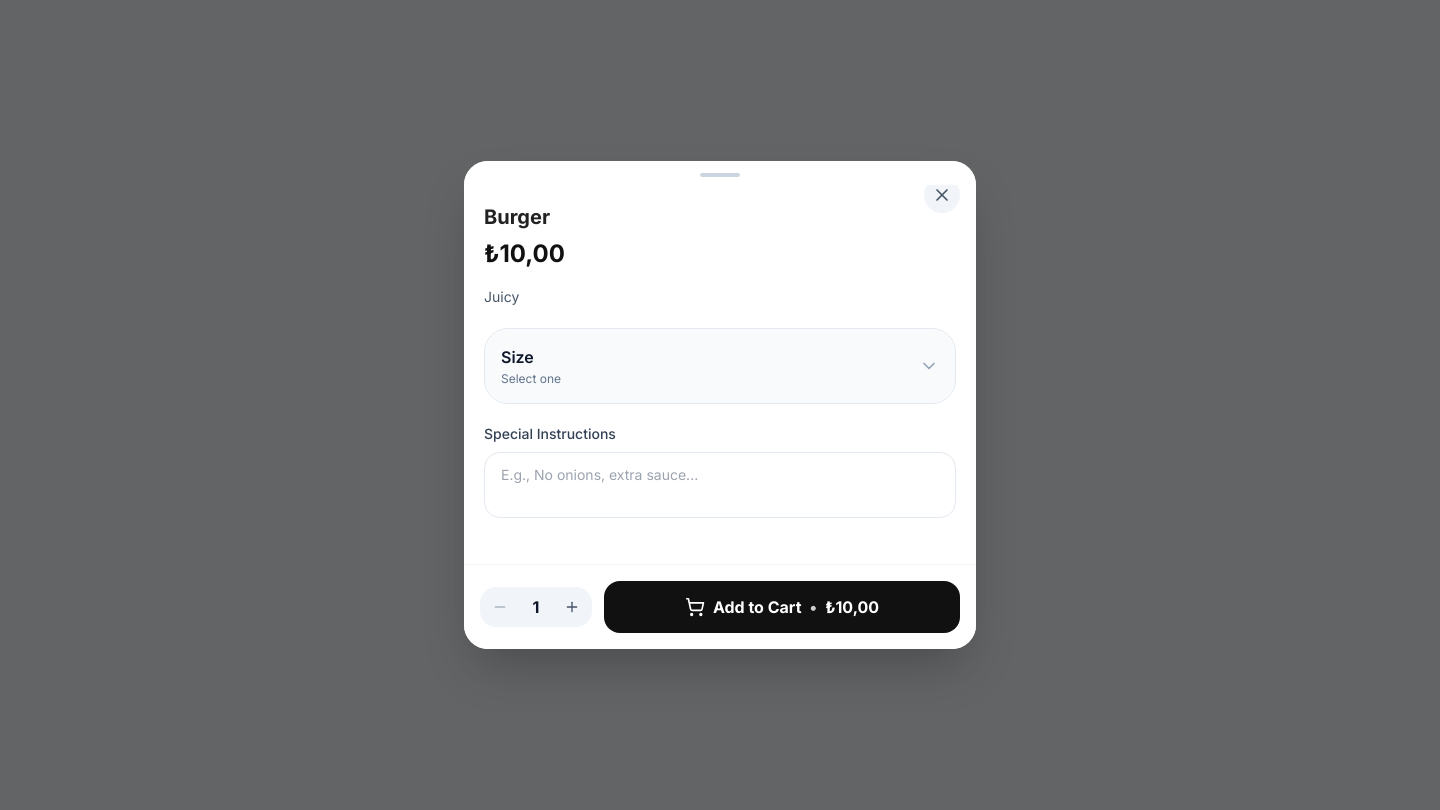
Test: ProductDetailModalWithCart — single-select modifier group › picking a second option replaces the first (only one stays selected)
Click the button "Size Select one".
click(517, 357)  # box left=485, top=329, right=955, bottom=403
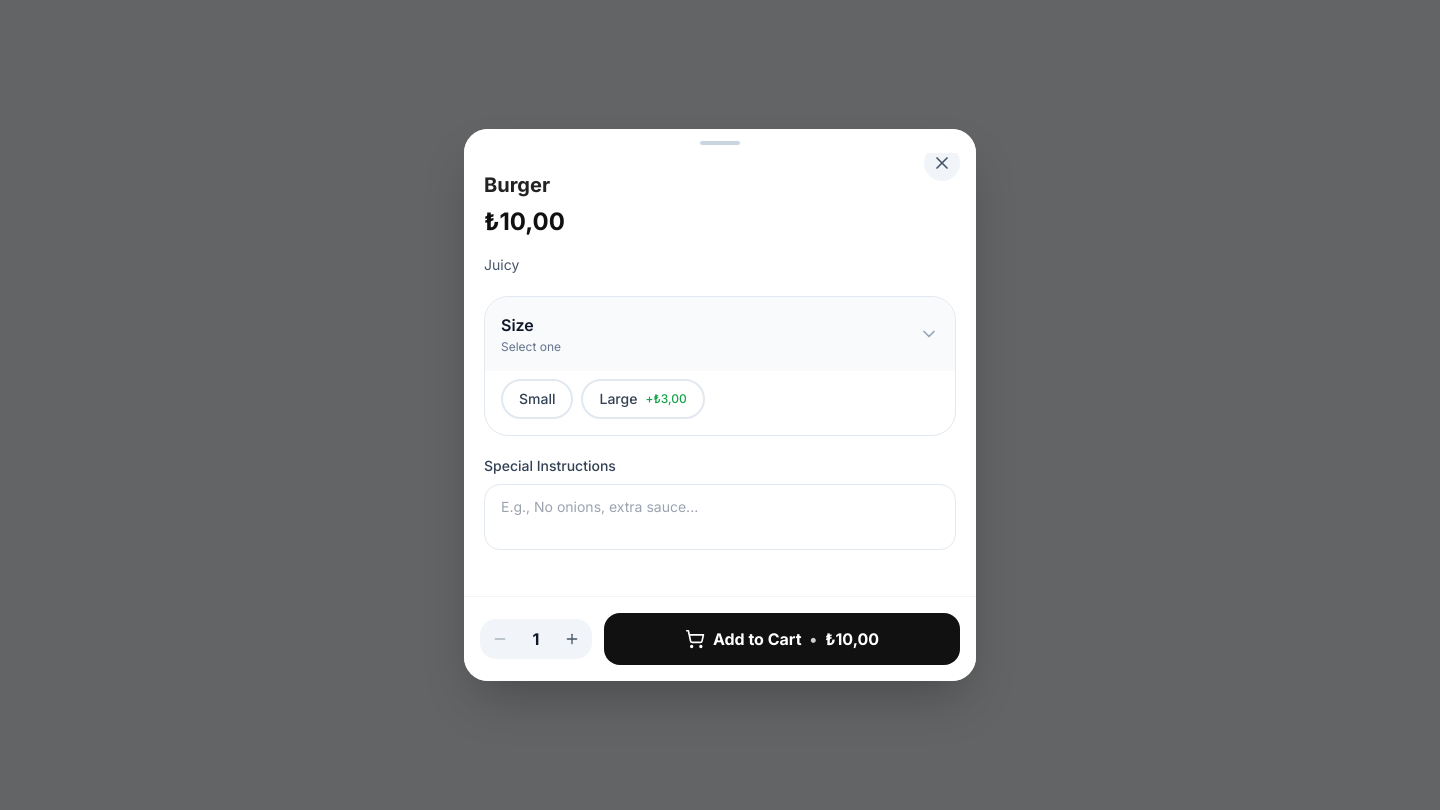
Click the button "Large +₺3,00".
click(643, 399)  # box left=582, top=379, right=705, bottom=419
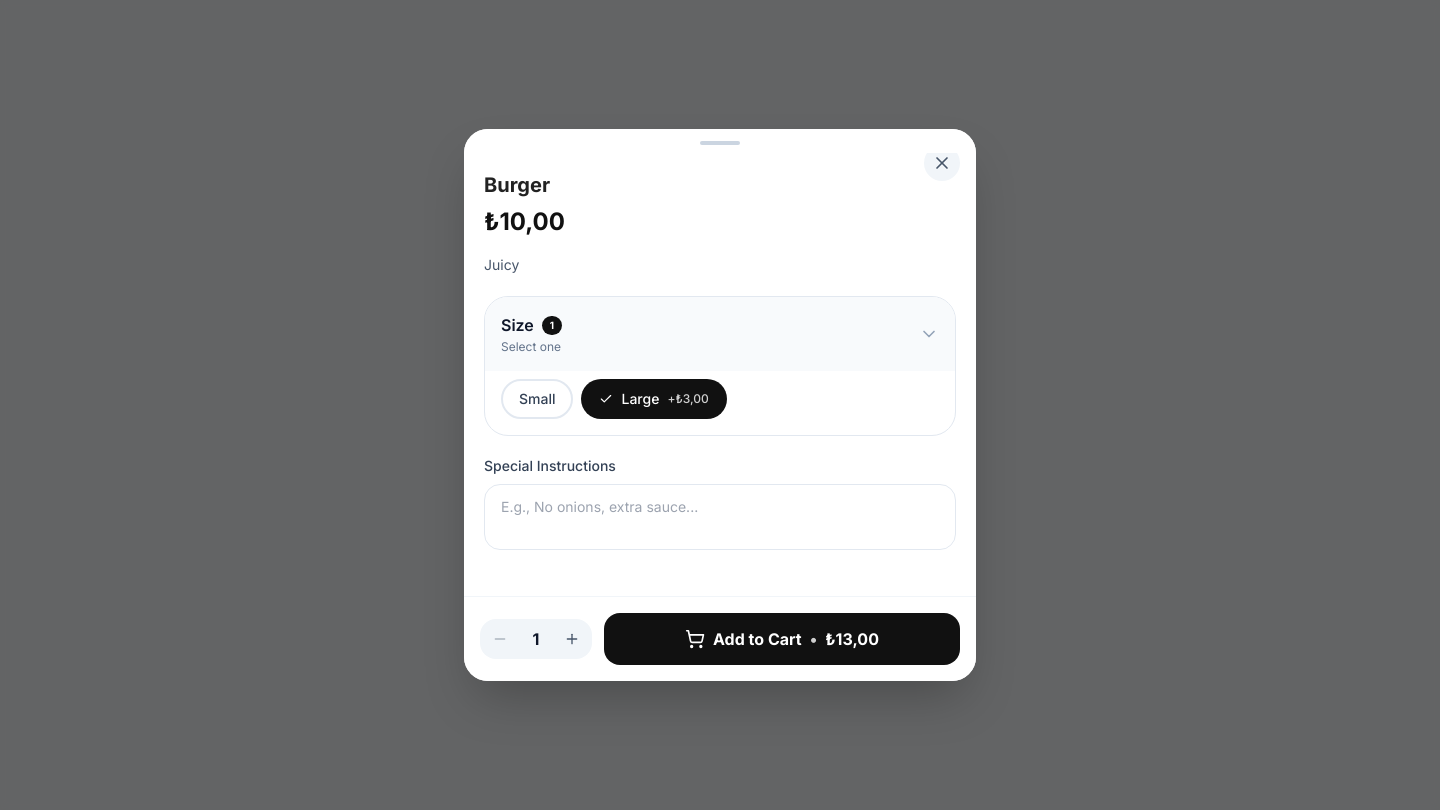
Expected: the button "Add to Cart • ₺13,00" is shown, left=604, top=613, right=960, bottom=665
Click the button "Small".
click(537, 399)  # box left=501, top=379, right=574, bottom=419
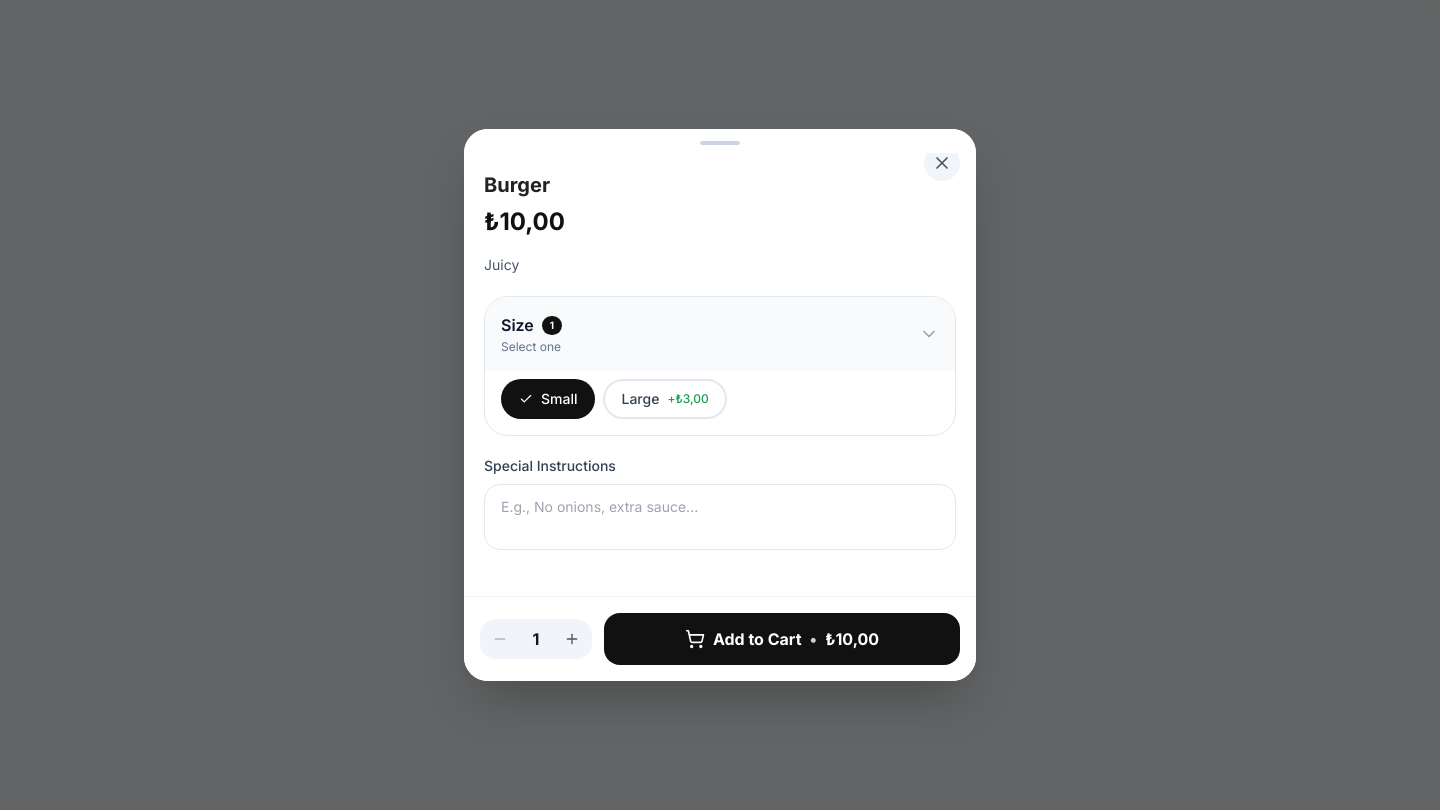
Expected: the button "Add to Cart • ₺10,00" is shown, left=604, top=613, right=960, bottom=665
